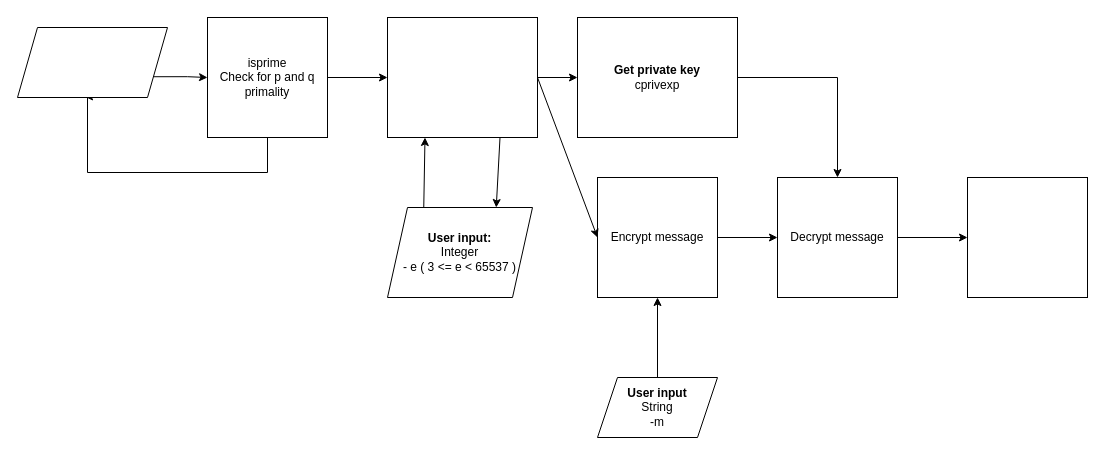
The diagram is 1105 pixels wide and 455 high, and some of its shapes have lost their labels. Here are the shapes that lost their labels. From the top down, the centre of each, then its label:
At point 92,62: "User input Integers: - p ( p < 50 ) - q ( q < 50 )".
At point 462,77: "Get public key cpubexp checks gcd(e,phi(n) = 1".
At point 1027,237: "Text File Output".
